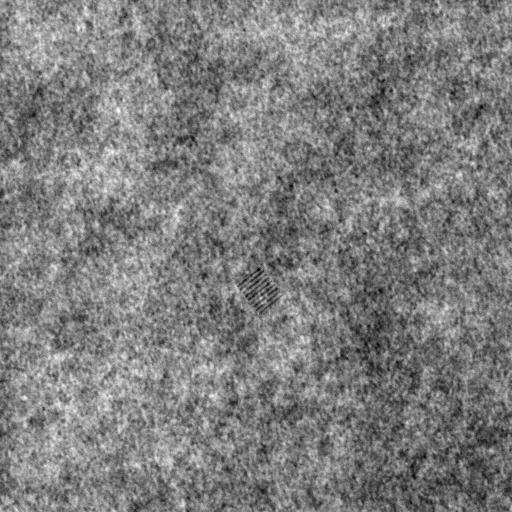impact: (236, 266, 283, 314)
